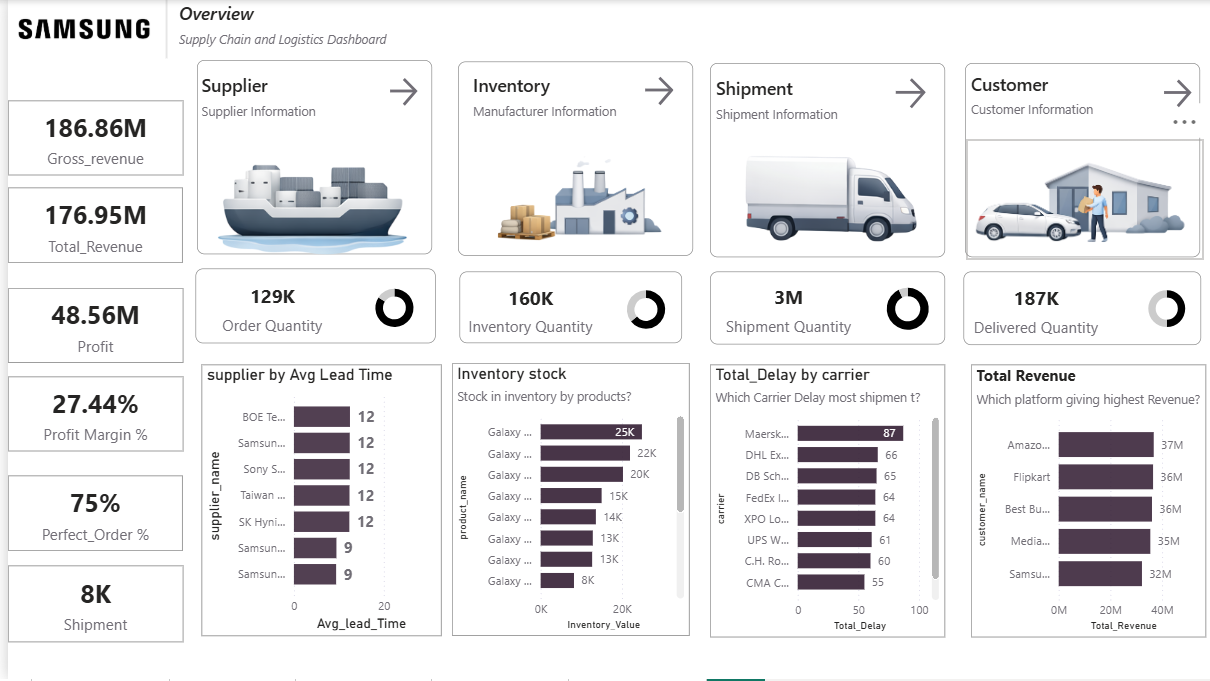

This screenshot's page, from the dashboard's own definition file:
{"tool":"powerbi","page":{"name":"Overview","canvas":[1280,720],"ordinal":1},"visuals":[{"type":"shape","box":[200.4,64,249,206],"z":0},{"type":"shape","box":[477.8,64.7,249,206],"z":1000},{"type":"shape","box":[744.4,67.4,249.3,206],"z":2000},{"type":"shape","box":[1015.6,67.4,249,206],"z":3000},{"type":"image","box":[200.9,145.1,234.4,131.7],"z":4000},{"type":"image","box":[1015.8,147.3,252.3,127.3],"z":5000},{"type":"image","box":[477.8,145.1,245.6,125],"z":6000},{"type":"image","box":[752.4,136.2,234.4,131.7],"z":7000},{"type":"actionButton","box":[398.6,78.1,43.9,39.1],"z":8000},{"type":"actionButton","box":[669.8,75.9,53.6,40.2],"z":9000},{"type":"actionButton","box":[1220.3,79.7,47.2,39.1],"z":10000},{"type":"actionButton","box":[934.7,77.5,52.2,42.1],"z":11000},{"type":"shape","title":"Supplier","box":[205,78.1,193.6,58.6],"z":12000},{"type":"shape","title":"Inventory ","box":[493.5,77.5,193.7,58.9],"z":13000},{"type":"shape","title":"Shipment","box":[751.2,80.8,193.7,58.9],"z":14000},{"type":"shape","title":"Customer ","box":[1020.6,75.8,192,58.9],"z":15000},{"type":"shape","title":"Overview","box":[181.6,2.1,240,60.5],"z":16000},{"type":"shape","box":[154.6,0,27.7,61.8],"z":17000},{"type":"image","box":[0,0,154.6,60.2],"z":18000},{"type":"card","fields":{"Values":["Sum(fact_sales.gross_revenue)"]},"box":[0,106.4,185.7,79.3],"z":19000},{"type":"card","fields":{"Values":["MeasuresTable.Profit"]},"box":[0,304.7,185.7,79.3],"z":20000},{"type":"card","fields":{"Values":["MeasuresTable.Profit Margin %"]},"box":[0,398.6,185.7,79.3],"z":21000},{"type":"card","fields":{"Values":["MeasuresTable.Perfect_Order %"]},"box":[0,504,185.5,80],"z":22000},{"type":"card","fields":{"Values":["MeasuresTable.Total_Shipment"]},"box":[0,599,185.7,81.4],"z":23000},{"type":"card","fields":{"Values":["MeasuresTable.Total_Revenue"]},"box":[0,198.4,185.6,80],"z":24000},{"type":"shape","box":[198.3,285.1,254.6,79.3],"z":25000},{"type":"shape","box":[478.3,287.5,235.8,75.8],"z":26000},{"type":"shape","box":[744.4,287.5,249.3,77.5],"z":27000},{"type":"shape","box":[1012.8,288,252.3,78.1],"z":28000},{"type":"card","fields":{"Values":["MeasuresTable.Order_QTY"]},"box":[205.4,288,149.6,75.9],"z":29000},{"type":"card","fields":{"Values":["MeasuresTable.Inventory_Value"]},"box":[478.3,289.1,149.9,75.8],"z":30000},{"type":"card","fields":{"Values":["MeasuresTable.Total_Shipment_Quantity"]},"box":[751.2,289.1,153.3,74.1],"z":31000},{"type":"card","fields":{"Values":["MeasuresTable.Total_Delivered_Quantity"]},"box":[1015.6,289.1,149.9,77.5],"z":32000},{"type":"clusteredBarChart","title":"supplier by Avg Lead Time ","fields":{"Y":["MeasuresTable.Avg_lead_Time"],"Category":["dim_supplier.supplier_name"]},"box":[205.4,386.2,254.5,288],"z":33000},{"type":"clusteredBarChart","title":"Inventory stock","fields":{"Category":["dim_product.product_name"],"Y":["MeasuresTable.Inventory_Value"]},"box":[471.1,385.5,252.3,289],"z":34000},{"type":"clusteredBarChart","fields":{"Category":["fact_shipment.carrier"],"Y":["MeasuresTable.Total_Delay"]},"box":[744.4,385.7,249.3,289],"z":35000},{"type":"clusteredBarChart","title":"Total Revenue ","fields":{"Category":["dim_customer.customer_name"],"Y":["MeasuresTable.Total_Revenue"]},"box":[1020.6,385.7,249.3,289],"z":36000},{"type":"donutChart","fields":{"Y":["MeasuresTable.Inventory_Value","MeasuresTable.Safety_Stock"]},"box":[640,297.6,73.6,60.8],"z":37000},{"type":"donutChart","fields":{"Y":["MeasuresTable.Total_Shipment","MeasuresTable.Total_Delay"]},"box":[921.6,294.4,65.6,65.6],"z":38000},{"type":"donutChart","fields":{"Y":["MeasuresTable.Order_QTY","MeasuresTable.Defect_Rate"]},"box":[368.8,296.4,80.8,60.6],"z":39000},{"type":"donutChart","fields":{"Y":["MeasuresTable.Total_Delivered_Quantity","MeasuresTable.Total_QTY_Delay"]},"box":[1190.7,298.1,74.1,58.9],"z":40000},{"type":"pageNavigator","box":[817.6,11.1,453.3,33.4],"z":40001}]}

Visuals, with their boxes in screenshot pixels (x1, y1, x2, y2), scaled from the page's 1280x720 canvas onto the 1210x681 screenshot:
shape: {"left": 189, "top": 61, "right": 425, "bottom": 255}
shape: {"left": 452, "top": 61, "right": 687, "bottom": 256}
shape: {"left": 704, "top": 64, "right": 939, "bottom": 259}
shape: {"left": 960, "top": 64, "right": 1195, "bottom": 259}
image: {"left": 190, "top": 137, "right": 411, "bottom": 262}
image: {"left": 960, "top": 139, "right": 1199, "bottom": 260}
image: {"left": 452, "top": 137, "right": 684, "bottom": 255}
image: {"left": 711, "top": 129, "right": 933, "bottom": 253}
actionButton: {"left": 377, "top": 74, "right": 418, "bottom": 111}
actionButton: {"left": 633, "top": 72, "right": 684, "bottom": 110}
actionButton: {"left": 1154, "top": 75, "right": 1198, "bottom": 112}
actionButton: {"left": 884, "top": 73, "right": 933, "bottom": 113}
"Supplier" shape: {"left": 194, "top": 74, "right": 377, "bottom": 129}
"Inventory " shape: {"left": 467, "top": 73, "right": 650, "bottom": 129}
"Shipment" shape: {"left": 710, "top": 76, "right": 893, "bottom": 132}
"Customer " shape: {"left": 965, "top": 72, "right": 1146, "bottom": 127}
"Overview" shape: {"left": 172, "top": 2, "right": 399, "bottom": 59}
shape: {"left": 146, "top": 0, "right": 172, "bottom": 58}
image: {"left": 0, "top": 0, "right": 146, "bottom": 57}
card - Sum(fact_sales.gross_revenue): {"left": 0, "top": 101, "right": 176, "bottom": 176}
card - MeasuresTable.Profit: {"left": 0, "top": 288, "right": 176, "bottom": 363}
card - MeasuresTable.Profit Margin %: {"left": 0, "top": 377, "right": 176, "bottom": 452}
card - MeasuresTable.Perfect_Order %: {"left": 0, "top": 477, "right": 175, "bottom": 552}
card - MeasuresTable.Total_Shipment: {"left": 0, "top": 567, "right": 176, "bottom": 644}
card - MeasuresTable.Total_Revenue: {"left": 0, "top": 188, "right": 175, "bottom": 263}
shape: {"left": 187, "top": 270, "right": 428, "bottom": 345}
shape: {"left": 452, "top": 272, "right": 675, "bottom": 344}
shape: {"left": 704, "top": 272, "right": 939, "bottom": 345}
shape: {"left": 957, "top": 272, "right": 1196, "bottom": 346}
card - MeasuresTable.Order_QTY: {"left": 194, "top": 272, "right": 336, "bottom": 344}
card - MeasuresTable.Inventory_Value: {"left": 452, "top": 273, "right": 594, "bottom": 345}
card - MeasuresTable.Total_Shipment_Quantity: {"left": 710, "top": 273, "right": 855, "bottom": 344}
card - MeasuresTable.Total_Delivered_Quantity: {"left": 960, "top": 273, "right": 1102, "bottom": 347}
"supplier by Avg Lead Time " clusteredBarChart: {"left": 194, "top": 365, "right": 435, "bottom": 638}
"Inventory stock" clusteredBarChart: {"left": 445, "top": 365, "right": 684, "bottom": 638}
clusteredBarChart - fact_shipment.carrier x MeasuresTable.Total_Delay: {"left": 704, "top": 365, "right": 939, "bottom": 638}
"Total Revenue " clusteredBarChart: {"left": 965, "top": 365, "right": 1200, "bottom": 638}
donutChart - MeasuresTable.Inventory_Value x MeasuresTable.Safety_Stock: {"left": 605, "top": 281, "right": 675, "bottom": 339}
donutChart - MeasuresTable.Total_Shipment x MeasuresTable.Total_Delay: {"left": 871, "top": 278, "right": 933, "bottom": 340}
donutChart - MeasuresTable.Order_QTY x MeasuresTable.Defect_Rate: {"left": 349, "top": 280, "right": 425, "bottom": 338}
donutChart - MeasuresTable.Total_Delivered_Quantity x MeasuresTable.Total_QTY_Delay: {"left": 1126, "top": 282, "right": 1196, "bottom": 338}
pageNavigator: {"left": 773, "top": 10, "right": 1201, "bottom": 42}
